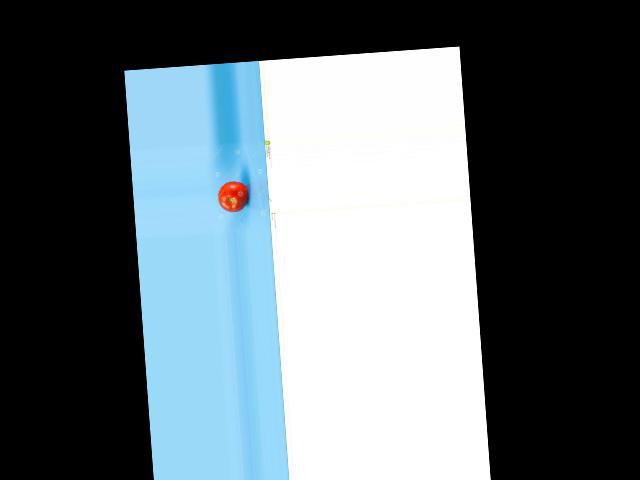tomato: (217, 180, 249, 213)
